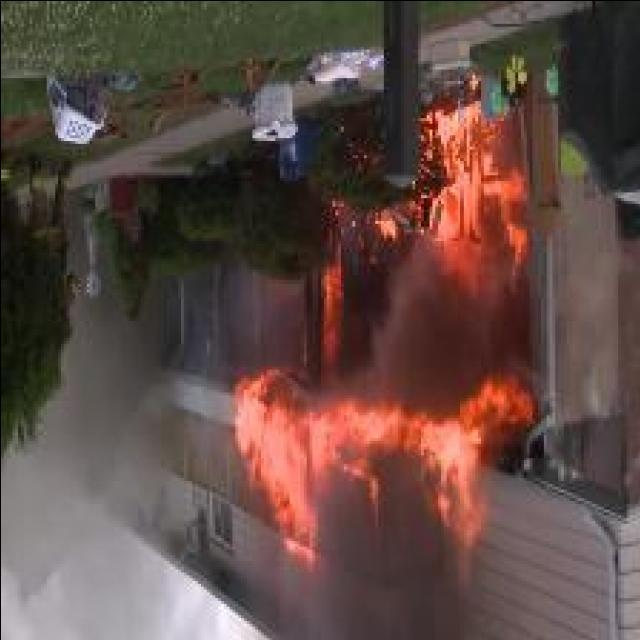Fire: (230, 362, 530, 582), (406, 102, 526, 304), (368, 203, 396, 240)
